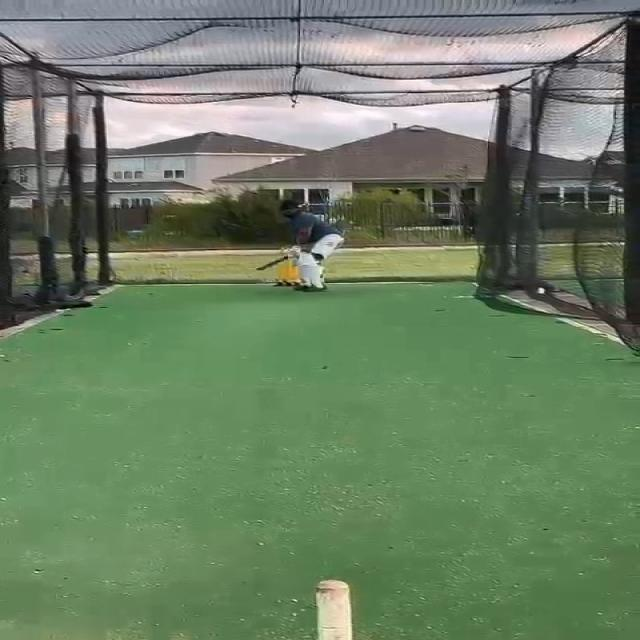batsman: (253, 198, 348, 294)
